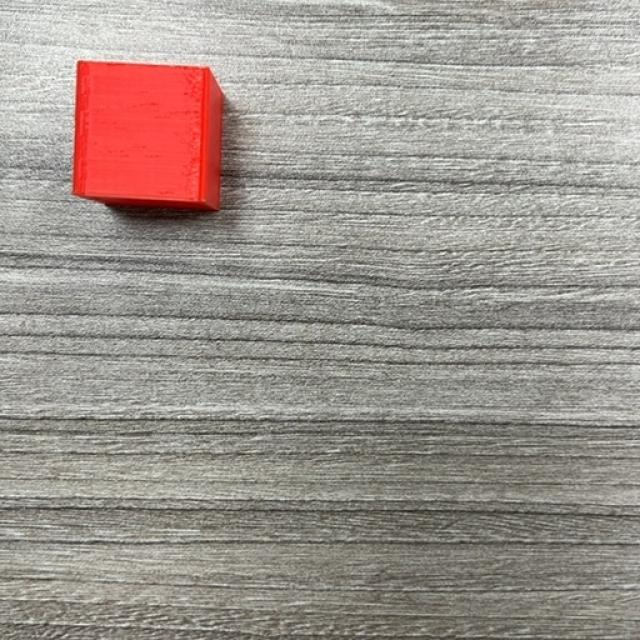Rojo: (71, 60, 228, 215)
